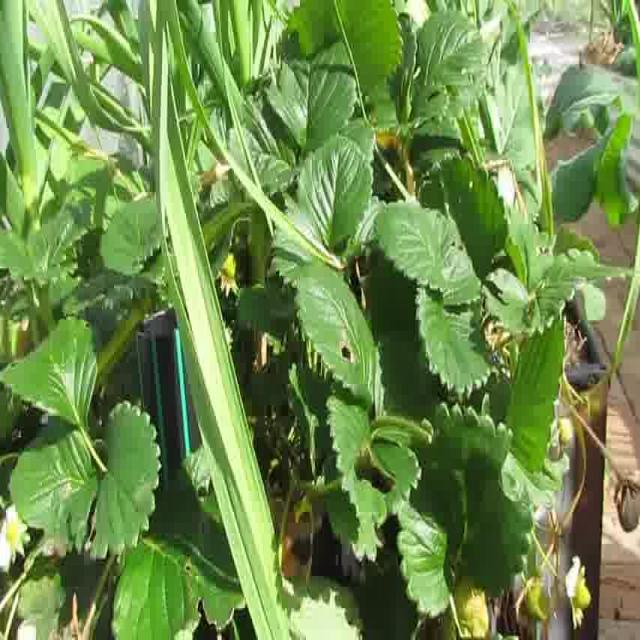Moho gris: (611, 464, 640, 540)
